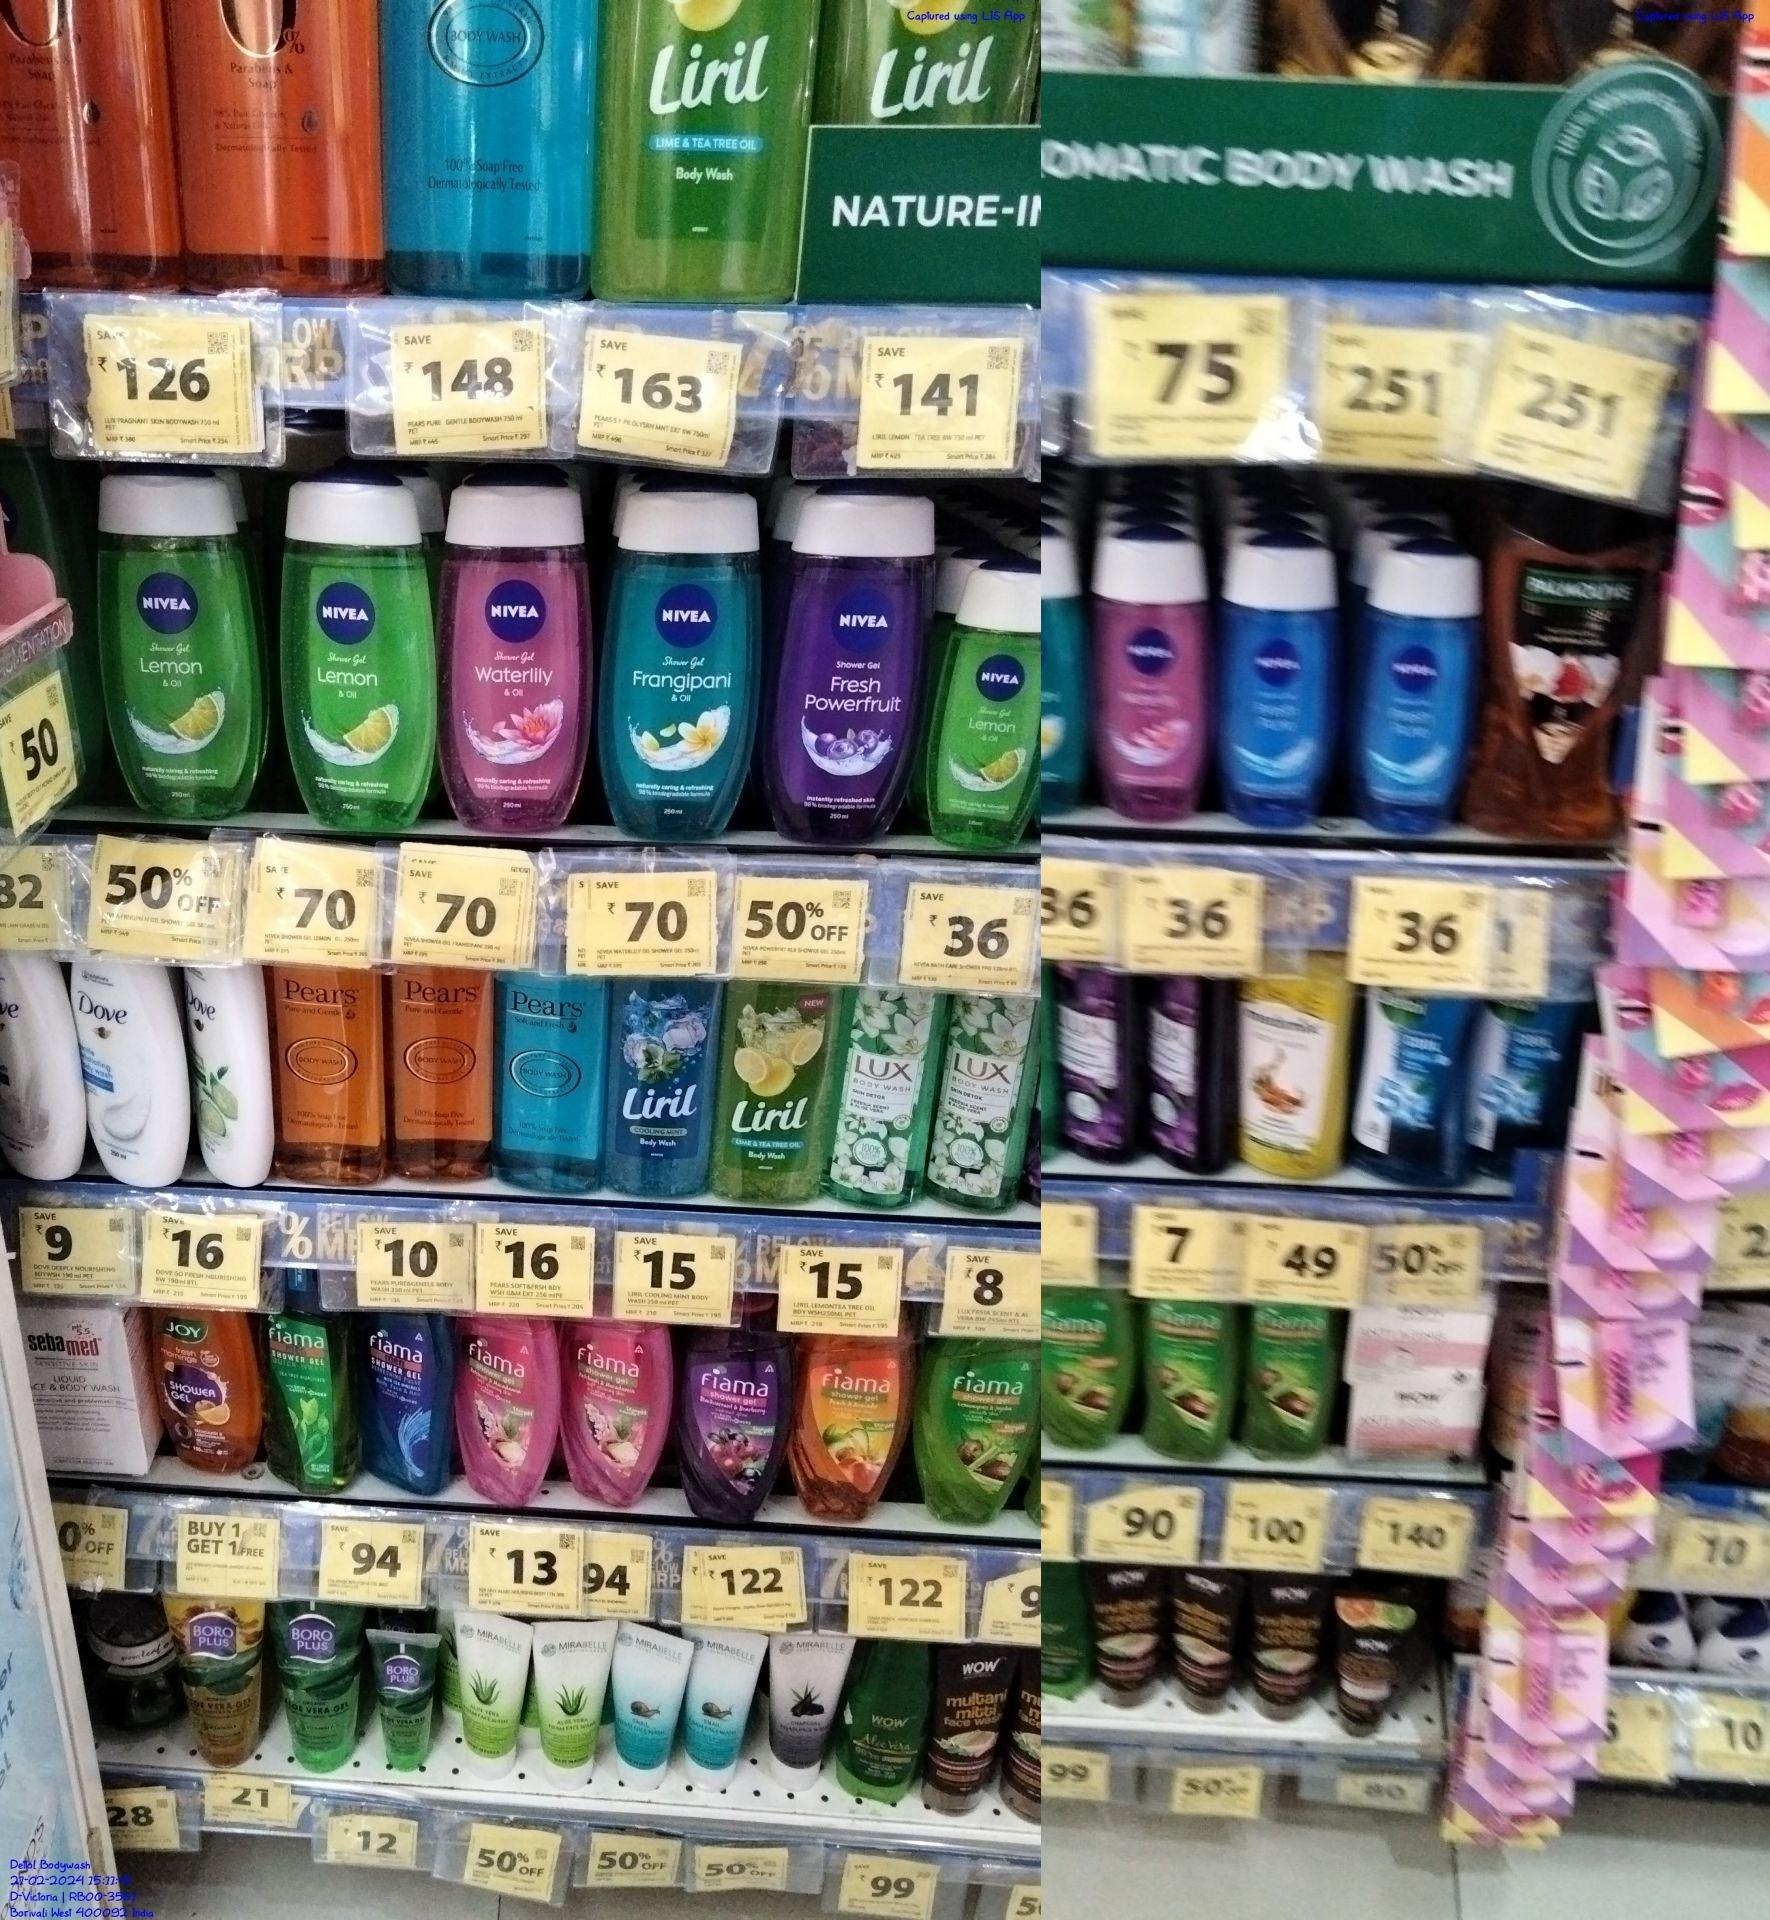Fiama_Shower_Gel_Lemongrass_and_Jojoba_250ML: (913, 1336, 1039, 1529)
Fiama_Shower_Gel_Patchouli_and_Macadamia_250ML: (562, 1318, 673, 1504), (453, 1316, 562, 1504)
Fiama_Shower_Gel_Peach_and_Avocado_250ML: (793, 1331, 912, 1522)
Liril_Cooling_Mint_Body_Wash_250ML: (606, 978, 718, 1199)
Liril_Lime_and_Tea_Tree_Oil_Body_Wash_250ML: (719, 980, 835, 1196)
Lux_Body_Wash_Skin_Detox_Freesia_Scent_and_Alove_Vera_245ML: (833, 988, 940, 1209)
Nivea_Shower_Gel_Frangipani_and_Oil_250ML: (596, 480, 760, 836)
Nivea_Shower_Gel_Fresh_Powerfruit_250ML: (765, 485, 944, 840)
Nivea_Shower_Gel_Lemon_and_Oil_250ML: (92, 462, 264, 823), (276, 470, 440, 836)
Nivea_Shower_Gel_Waterlily_and_Oil_250ML: (440, 473, 594, 836)
Pears_Pure_Glycerin_and_Mint_Extracts_Body_Wash_250ML: (494, 970, 604, 1199)
